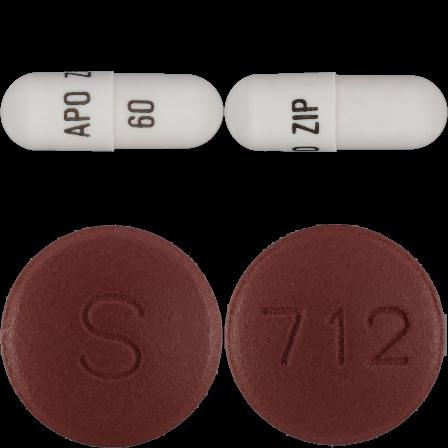61786-606: (0, 0, 224, 224)
